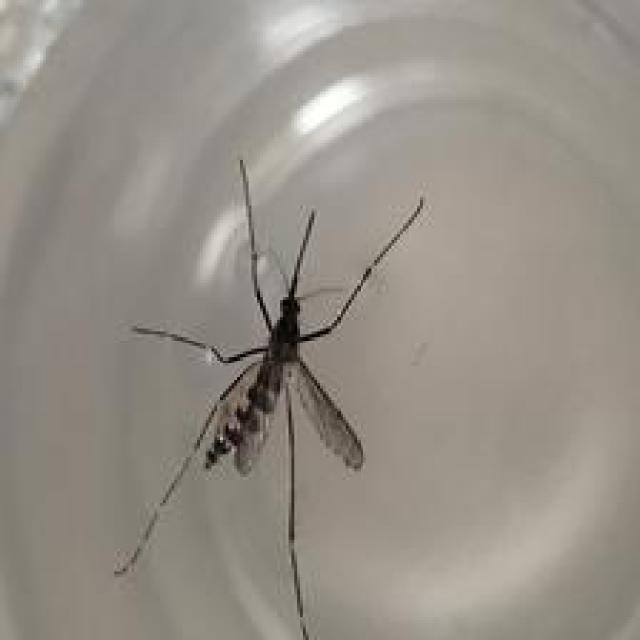Aedes albopictus: (111, 157, 426, 640)
